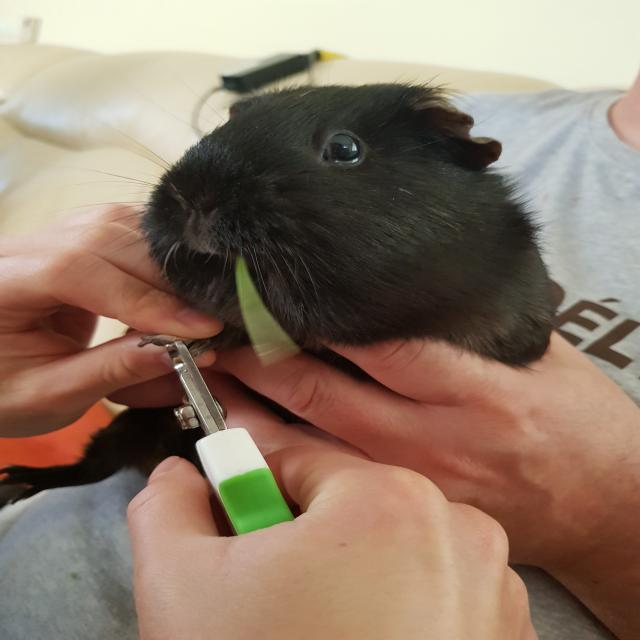guinea pig: (0, 78, 556, 506)
